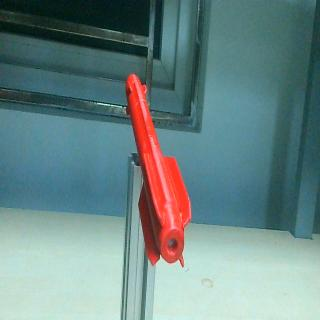Rocket: (125, 70, 193, 269)
